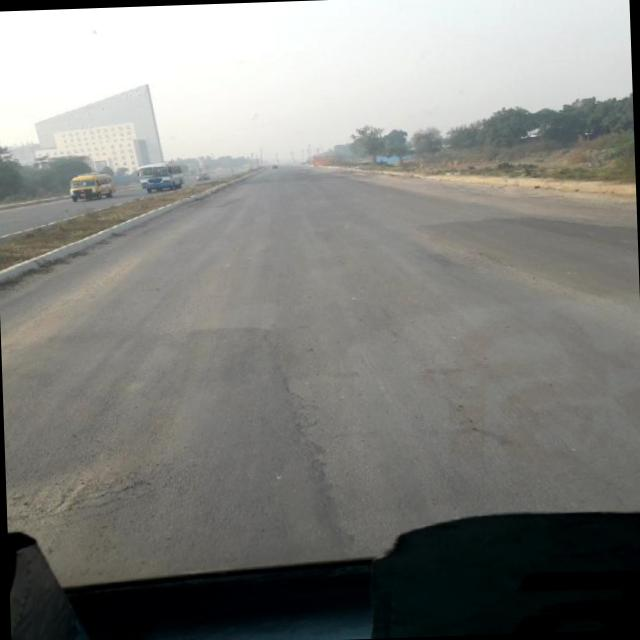crack: (10, 457, 172, 529)
